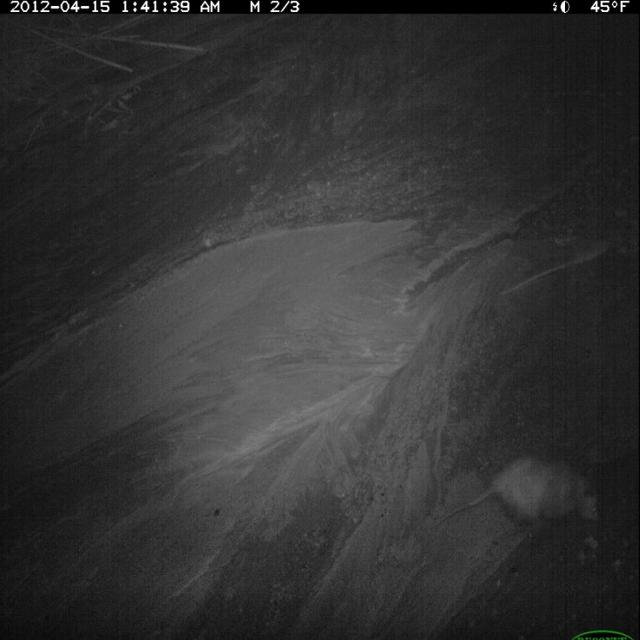opossum: (432, 450, 606, 542)
